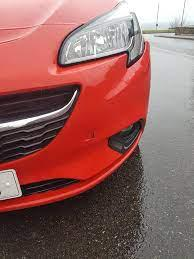front-bumper-dent: (0, 53, 159, 208)
